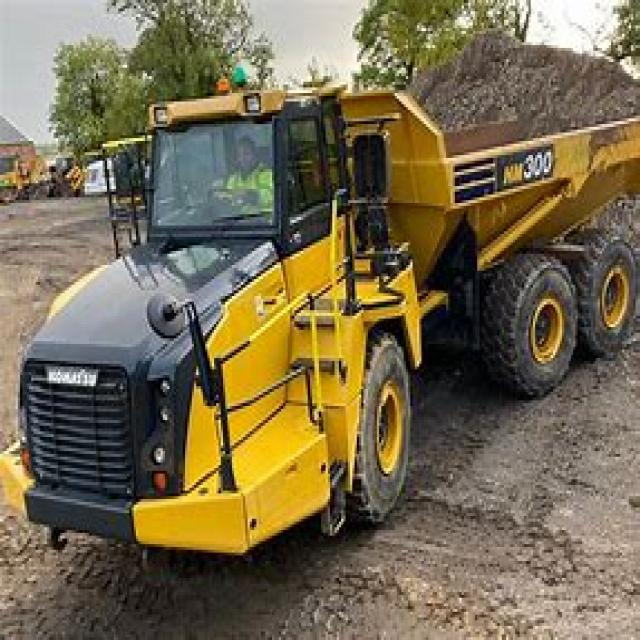dump_truck: (29, 20, 638, 555)
